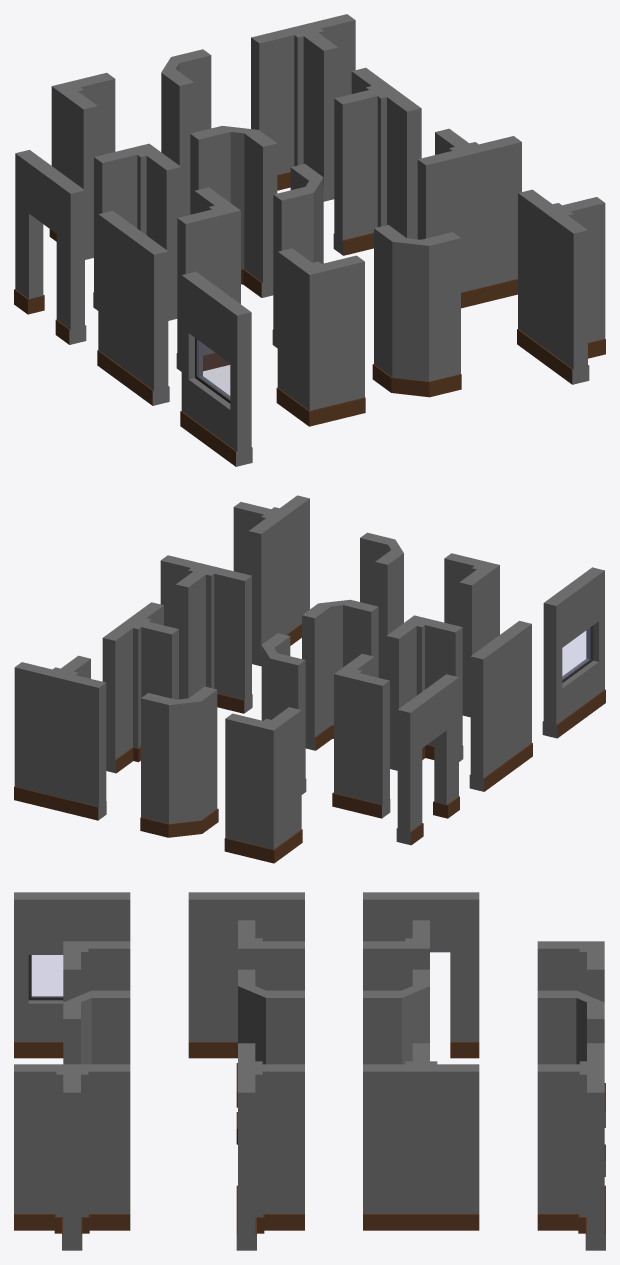
The model's file is wall1.fbx.
The picture shows the model from 3 angles, top to bottom: view 1: azimuth 30°, elevation 25°; view 2: azimuth 150°, elevation 25°; view 3: azimuth 270°, elevation 25°; orthographic projection. The views are drawn at different scales.
Parts seen in each view (by area): view 1: Wall T Right Angle 0, Wall Right Angle 0, Wall Right Curve 0, Wall T Right Angle 90, Wall T Right Angle 180, Wall T Right Angle 270, Wall Plane, Wall Window, Wall Door, Wall Right Curve 180, Wall Right Angle 180, Wall Right Angle 270 (+3 smaller); view 2: Wall T Right Angle 270, Wall T Right Angle 90, Wall Right Angle 270, Wall Right Curve 270, Wall T Right Angle 0, Wall Plane, Wall Window, Wall T Right Angle 180, Wall Right Angle 180, Wall Door, Wall Right Curve 90, Wall Right Angle 90 (+3 smaller); view 3: Wall T Right Angle 0, Wall T Right Angle 180, Wall T Right Angle 270, Wall T Right Angle 90, Wall Window, Wall Plane, Wall Door, Wall Right Curve 90, Wall Right Curve 180, Wall Right Curve 0, Wall Right Curve 270, Wall Right Angle 270 (+3 smaller).
Boxes of the visible parts, <box> form: Wall T Right Angle 0: <box>517,189,605,384</box>; Wall Right Angle 0: <box>276,248,365,426</box>; Wall Right Curve 0: <box>372,224,461,397</box>; Wall T Right Angle 90: <box>417,128,521,308</box>; Wall T Right Angle 180: <box>333,67,421,255</box>; Wall T Right Angle 270: <box>251,14,355,201</box>; Wall Plane: <box>97,210,169,405</box>; Wall Window: <box>180,271,252,466</box>; Wall Door: <box>14,150,86,344</box>; Wall Right Curve 180: <box>190,125,277,297</box>; Wall Right Angle 180: <box>93,143,181,320</box>; Wall Right Angle 270: <box>49,72,115,259</box>; Wall T Right Angle 270: <box>14,655,106,820</box>; Wall T Right Angle 90: <box>160,555,252,713</box>; Wall Right Angle 270: <box>224,707,302,863</box>; Wall Right Curve 270: <box>140,686,218,837</box>; Wall T Right Angle 0: <box>233,495,309,666</box>; Wall Plane: <box>469,621,532,791</box>; Wall Window: <box>542,567,605,738</box>; Wall T Right Angle 180: <box>102,602,178,773</box>; Wall Right Angle 180: <box>332,653,390,818</box>; Wall Door: <box>396,674,459,845</box>; Wall Right Curve 90: <box>302,599,378,750</box>; Wall Right Angle 90: <box>386,615,463,770</box>; Wall T Right Angle 0: <box>14,1064,130,1250</box>; Wall T Right Angle 180: <box>363,1043,479,1230</box>; Wall T Right Angle 270: <box>537,1043,605,1250</box>; Wall T Right Angle 90: <box>236,1043,304,1250</box>; Wall Window: <box>14,892,130,1058</box>; Wall Plane: <box>188,892,304,1058</box>; Wall Door: <box>363,892,479,1058</box>; Wall Right Curve 90: <box>236,969,304,1144</box>; Wall Right Curve 180: <box>363,969,429,1064</box>; Wall Right Curve 0: <box>63,990,130,1064</box>; Wall Right Curve 270: <box>537,990,605,1176</box>; Wall Right Angle 270: <box>537,941,605,1127</box>.
Bounding box in the file's own units: 818 × 300 × 1018.
